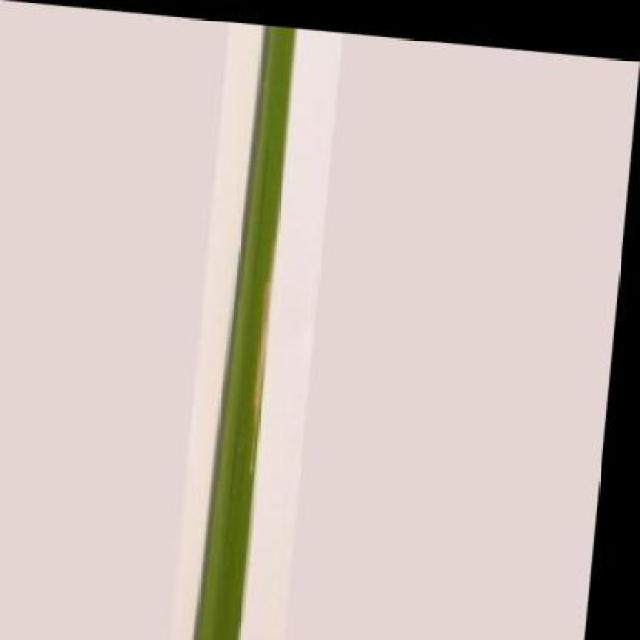Brown_Spot: (199, 18, 306, 640)
